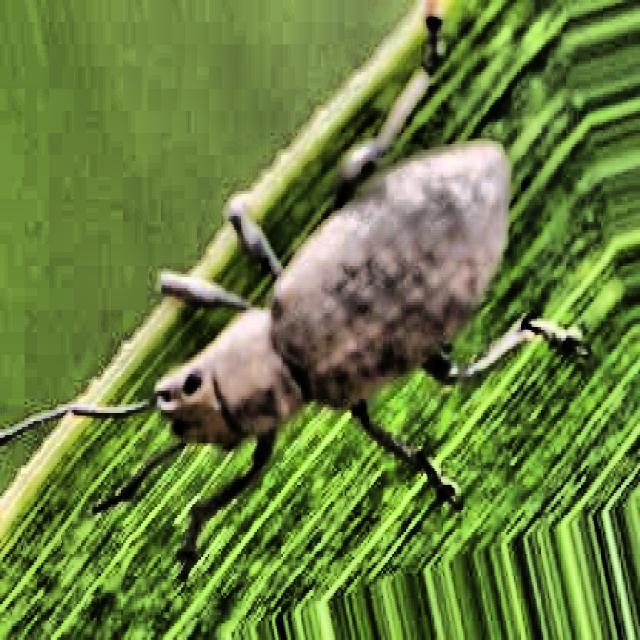Stink bug: (62, 40, 568, 592)
